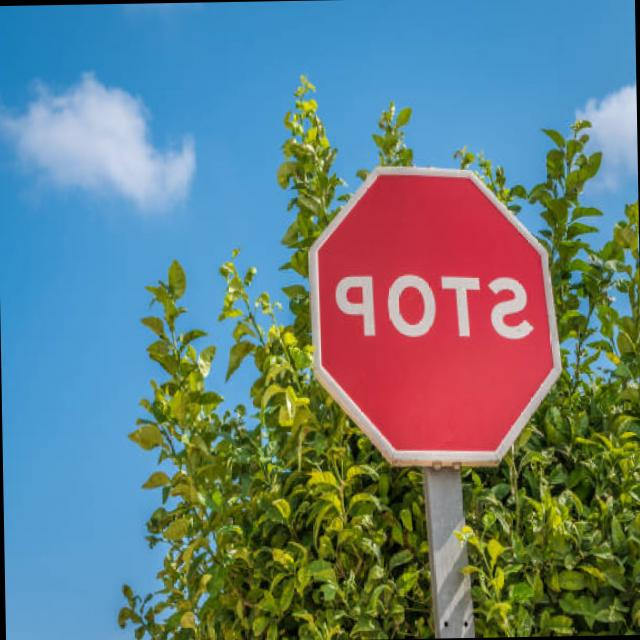stop: (298, 150, 567, 481)
